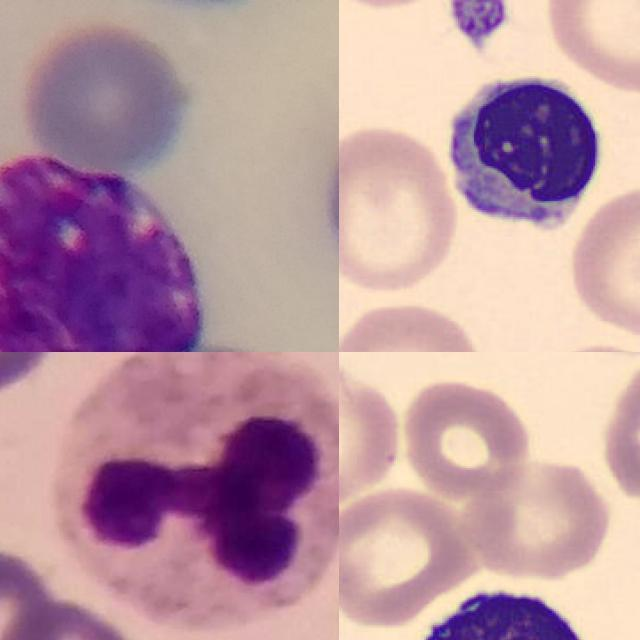Basophil: (0, 150, 200, 352)
Lymphocyte: (437, 64, 613, 240), (404, 570, 612, 640)
Neutrophil: (54, 352, 339, 631)
Platelets: (448, 0, 504, 46)
RBC: (390, 187, 562, 352), (339, 118, 461, 298), (339, 485, 481, 628), (465, 454, 615, 583), (396, 373, 536, 502), (564, 180, 640, 338), (339, 352, 408, 517), (539, 0, 640, 99), (339, 294, 491, 352), (595, 352, 640, 507)
